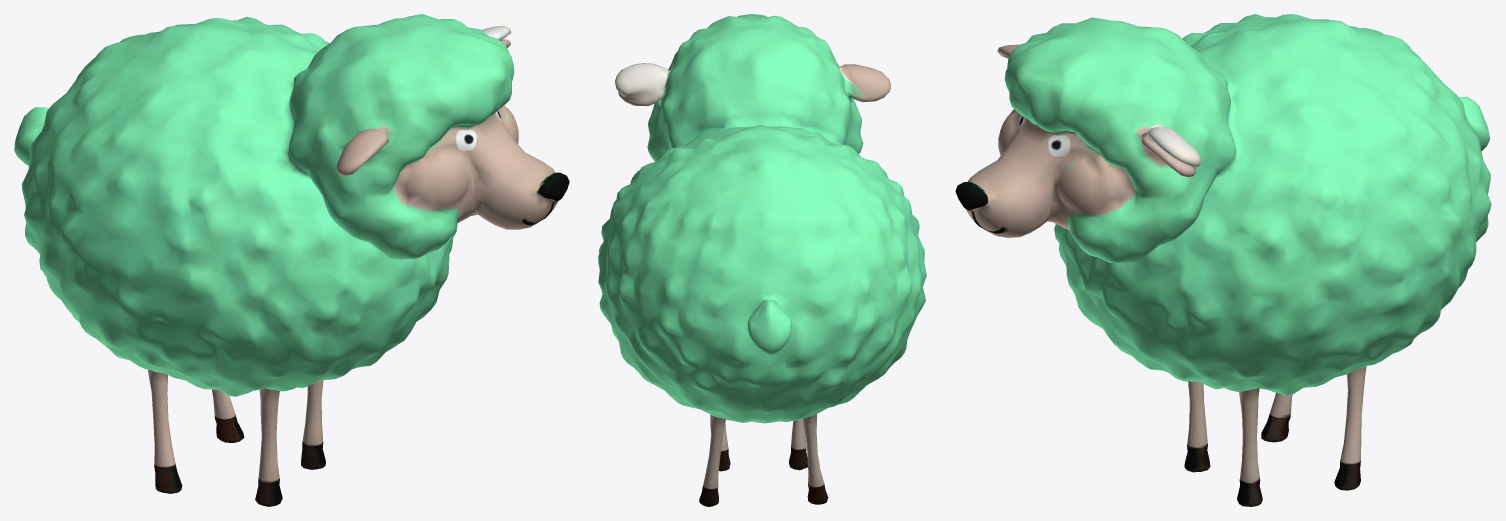
The model's file is greensheep.glb.
3 renders of one model, left to right at view 1: azimuth 30°, elevation 25°; view 2: azimuth 150°, elevation 25°; view 3: azimuth 270°, elevation 25°, orthographic. The views are drawn at different scales.
Visible parts, largest first — view 1: Mesh_0.001; view 2: Mesh_0.001; view 3: Mesh_0.001.
Part boxes in pixels (left/top/right/bottom): Mesh_0.001: left=14, top=14, right=569, bottom=506; Mesh_0.001: left=598, top=14, right=926, bottom=506; Mesh_0.001: left=955, top=14, right=1491, bottom=506.
Bounding box in the file's own units: 1.52 × 1.72 × 1.73.
Materials: 1 (1 with a texture image).
